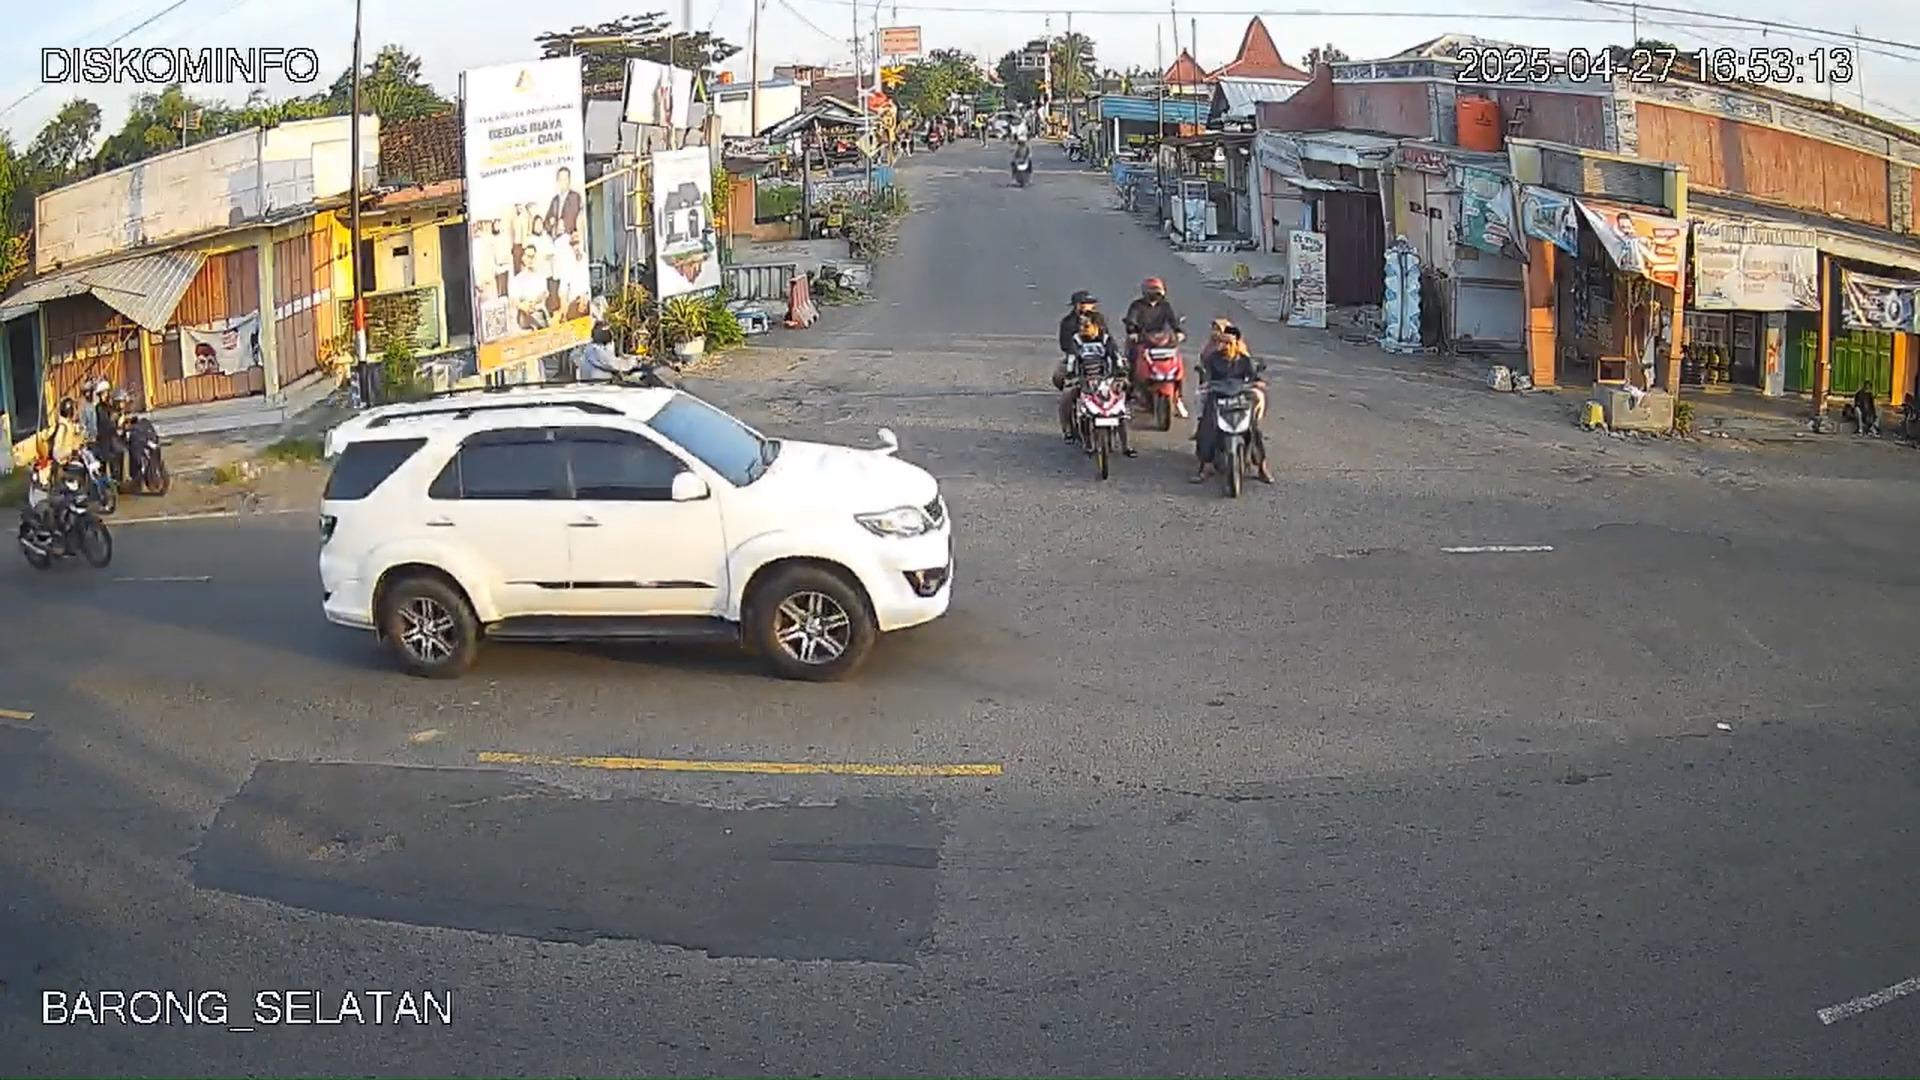Motor: (1195, 322, 1280, 502), (1052, 289, 1129, 446), (18, 455, 113, 568), (1130, 273, 1187, 440)
mobil: (315, 378, 959, 699)
